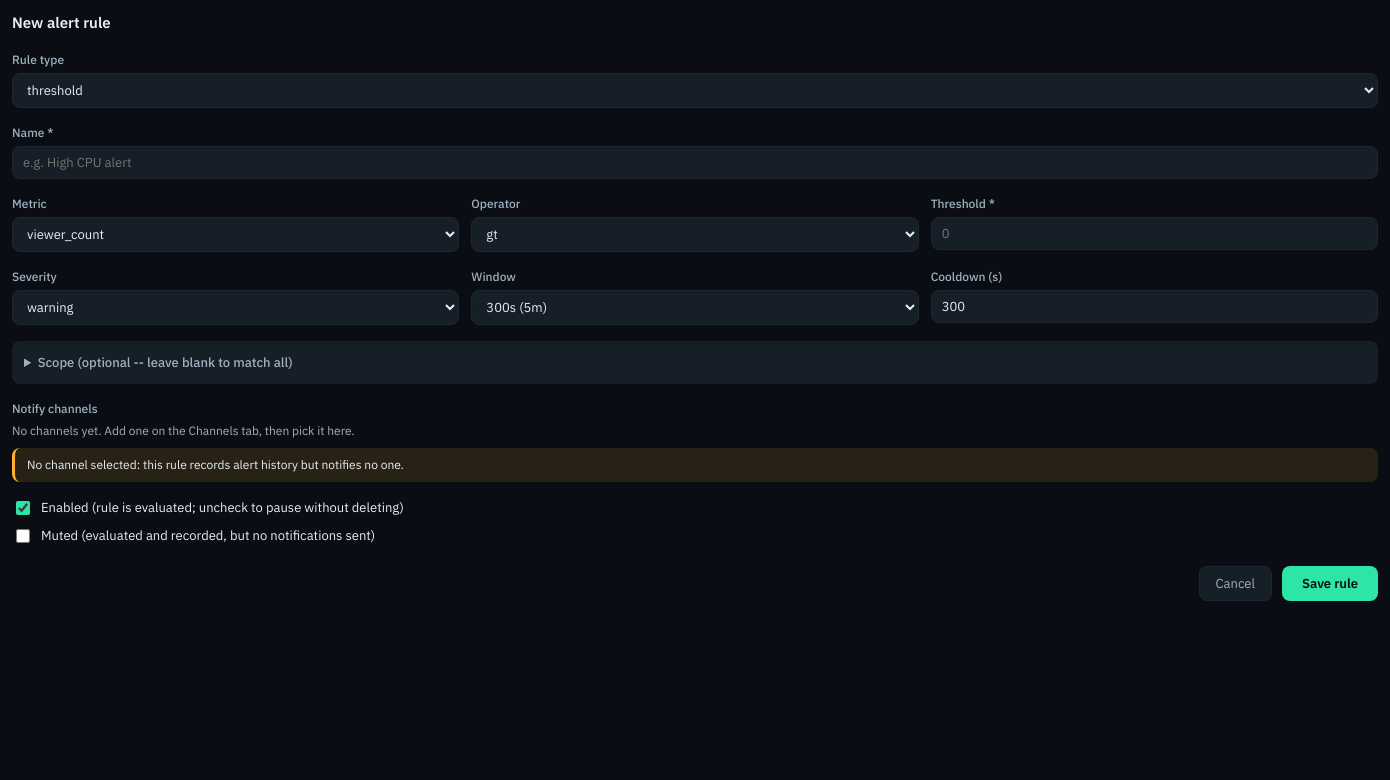
it: AlertRuleForm › shows validation error when name is empty on submit
The width and height of the screenshot is (1390, 780).
Click the button "Save rule" at (1330, 584), box [1282,566,1378,601]
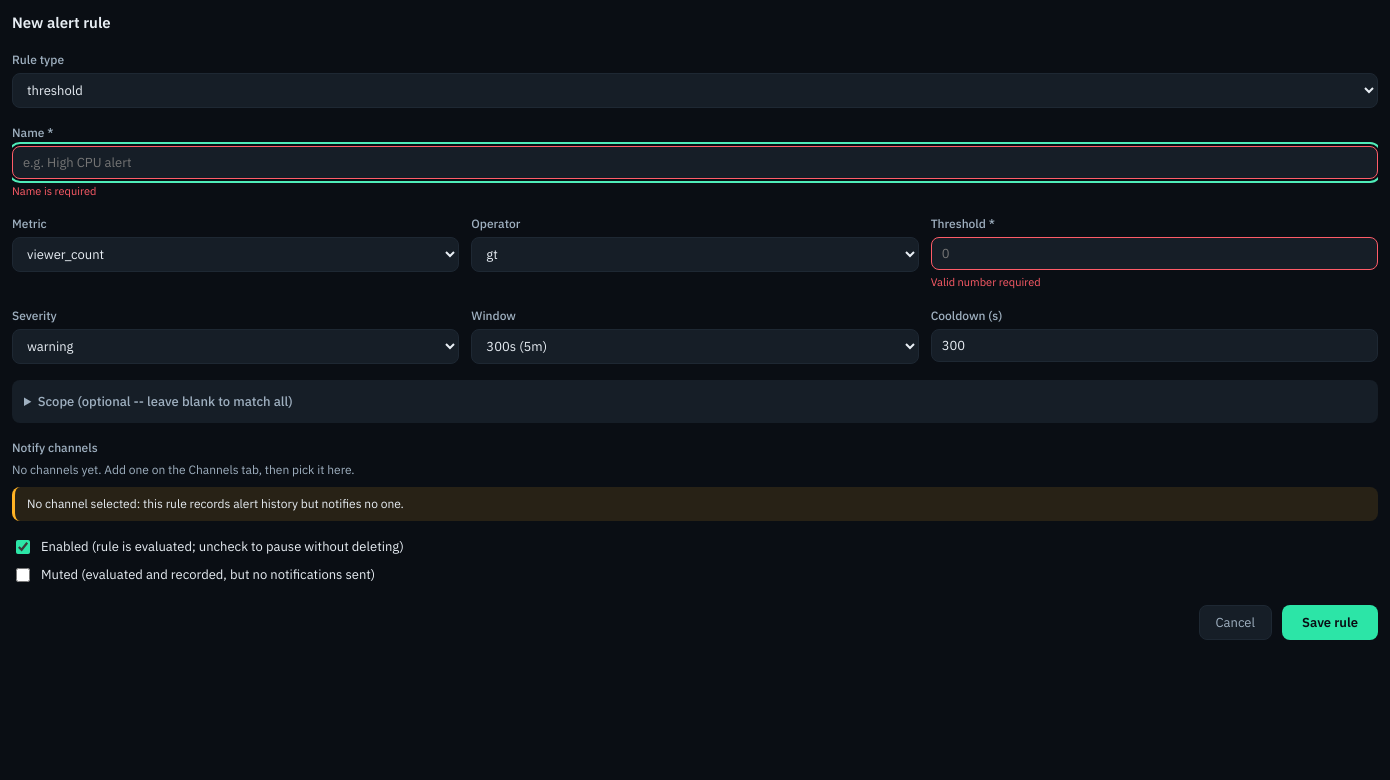
expect the text "Name is required" is shown: met, box [12,184,96,198]
